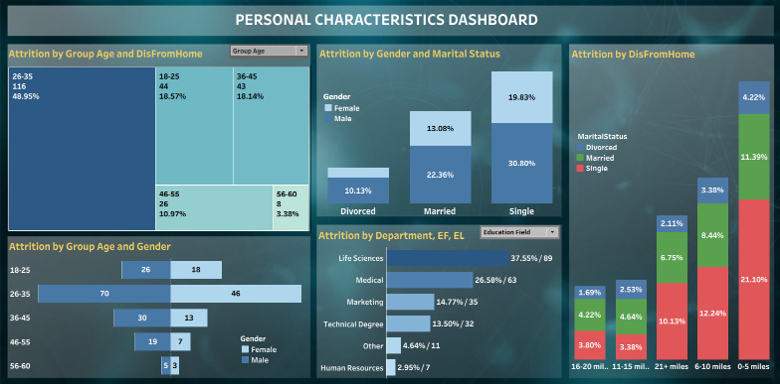

The page's visual inventory and layout, read from the dashboard file:
{"tool":"tableau","page":{"name":"PERSONAL","canvas":[1620,800],"ordinal":2},"visuals":[{"type":"image","param":"Image/KTDN Nhóm 4 (4).png","box":[8,8,1604,784]},{"type":"worksheet","title":"Title Personal","mark":"Automatic","box":[32,26,1545,63]},{"type":"worksheet","title":"Attrition by Group Age and DisFromHome","mark":"Automatic","box":[37,102,612,380]},{"type":"parameter","param":"[Parameters].[Parameter 6]","box":[485,102,160,30]},{"type":"worksheet","title":"Attrition by Gender and Marital Status","mark":"Automatic","rows":["Calculation_2118265449402368"],"cols":["MaritalStatus"],"box":[662,102,494,348]},{"type":"worksheet","title":"Attrition by DisFromHome","mark":"Automatic","rows":["Calculation_2118265449402368"],"cols":["Calculation_2118265480650763"],"box":[1169,103,412,674]},{"type":"legend","title":"Attrition by Gender and Marital Status","param":"[federated.1vb3wkh14cl6ws15iny691sp7f6z].[none:Gender:nk]","box":[674,198,119,67]},{"type":"legend","title":"Attrition by DisFromHome","param":"[federated.1vb3wkh14cl6ws15iny691sp7f6z].[none:MaritalStatus:nk]","box":[1180,277,110,89]},{"type":"parameter","param":"[Parameters].[Parameter 4]","box":[989,467,160,28]},{"type":"worksheet","title":"Attrition by Department, EF, EL","mark":"Automatic","rows":["Calculation_2118266512437267"],"cols":["Calculation_2118265449402368"],"box":[660,468,492,307]},{"type":"worksheet","title":"Attrition by Group Age and Gender","mark":"Bar","rows":["Calculation_2118265450332163"],"cols":["Calculation_2118265460289542","Calculation_2118265460502535"],"box":[38,490,609,283]},{"type":"legend","title":"Attrition by Group Age and Gender","param":"[federated.1vb3wkh14cl6ws15iny691sp7f6z].[none:Gender:nk]","box":[507,684,113,67]}]}

Visuals, with their boxes in screenshot pixels (x1, y1, x2, y2), scaled from the page's 1620x800 canvas onto the 780x384 screenshot:
image: rect(4, 4, 776, 380)
"Title Personal" worksheet: rect(15, 12, 759, 43)
"Attrition by Group Age and DisFromHome" worksheet: rect(18, 49, 312, 231)
parameter: rect(234, 49, 311, 63)
"Attrition by Gender and Marital Status" worksheet: rect(319, 49, 557, 216)
"Attrition by DisFromHome" worksheet: rect(563, 49, 761, 373)
"Attrition by Gender and Marital Status" legend: rect(325, 95, 382, 127)
"Attrition by DisFromHome" legend: rect(568, 133, 621, 176)
parameter: rect(476, 224, 553, 238)
"Attrition by Department, EF, EL" worksheet: rect(318, 225, 555, 372)
"Attrition by Group Age and Gender" worksheet (Bar marks): rect(18, 235, 312, 371)
"Attrition by Group Age and Gender" legend: rect(244, 328, 299, 360)
